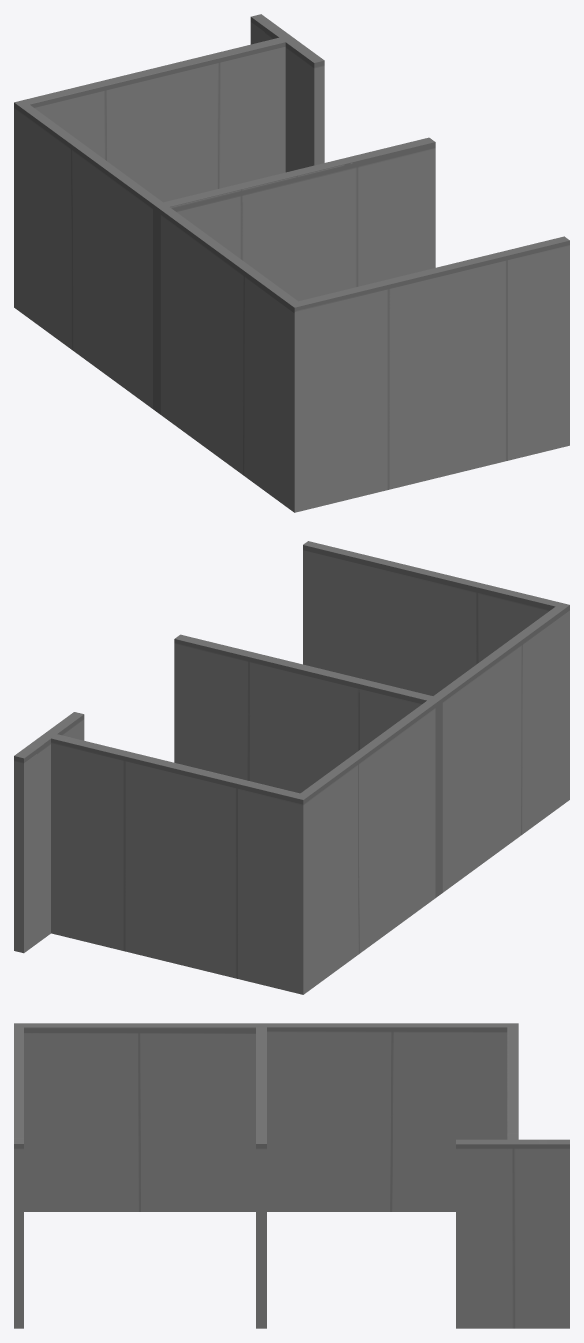
The model's file is Office-Cubicle_L.fbx.
3 renders of one model, top to bottom at view 1: azimuth 30°, elevation 25°; view 2: azimuth 150°, elevation 25°; view 3: azimuth 270°, elevation 25°, orthographic. The views are drawn at different scales.
Parts seen in each view (by area): view 1: Cubicle-End; view 2: Cubicle-End; view 3: Cubicle-End.
Boxes of the visible parts, x1,y1,x2,y2 form: Cubicle-End: [14, 14, 569, 512]; Cubicle-End: [14, 541, 569, 994]; Cubicle-End: [14, 1023, 569, 1328].
Size of the model in its own units: 253 by 180 by 492.
